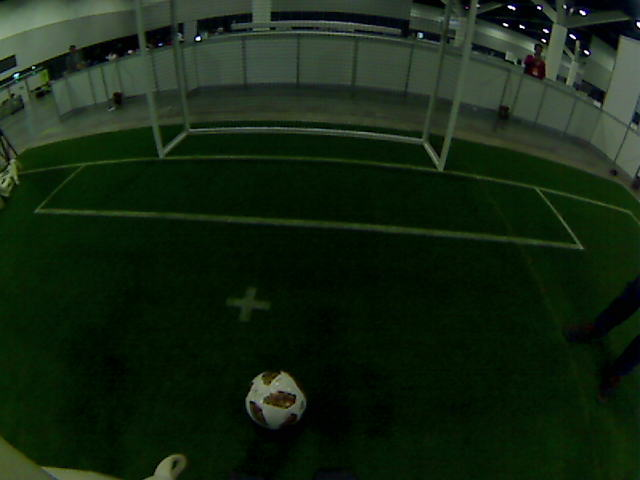ball: (253, 379, 293, 419)
goalpost: (419, 108, 459, 168), (139, 95, 179, 155)
